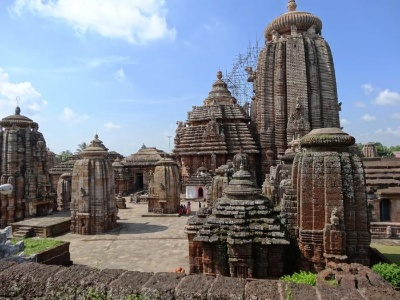amalaka: (257, 10, 331, 38), (293, 127, 366, 151), (5, 110, 44, 133), (75, 143, 112, 163)
gopuram: (275, 145, 383, 260), (250, 37, 354, 132), (66, 157, 127, 222)
